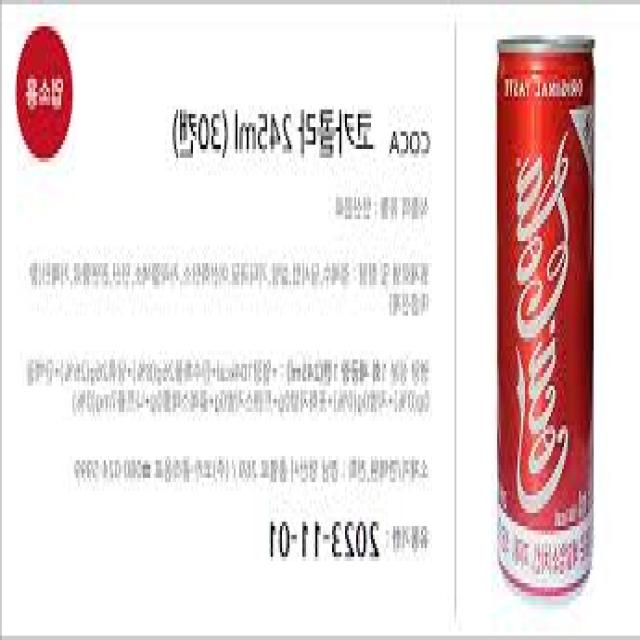Coca-Cola: (487, 25, 600, 605)
